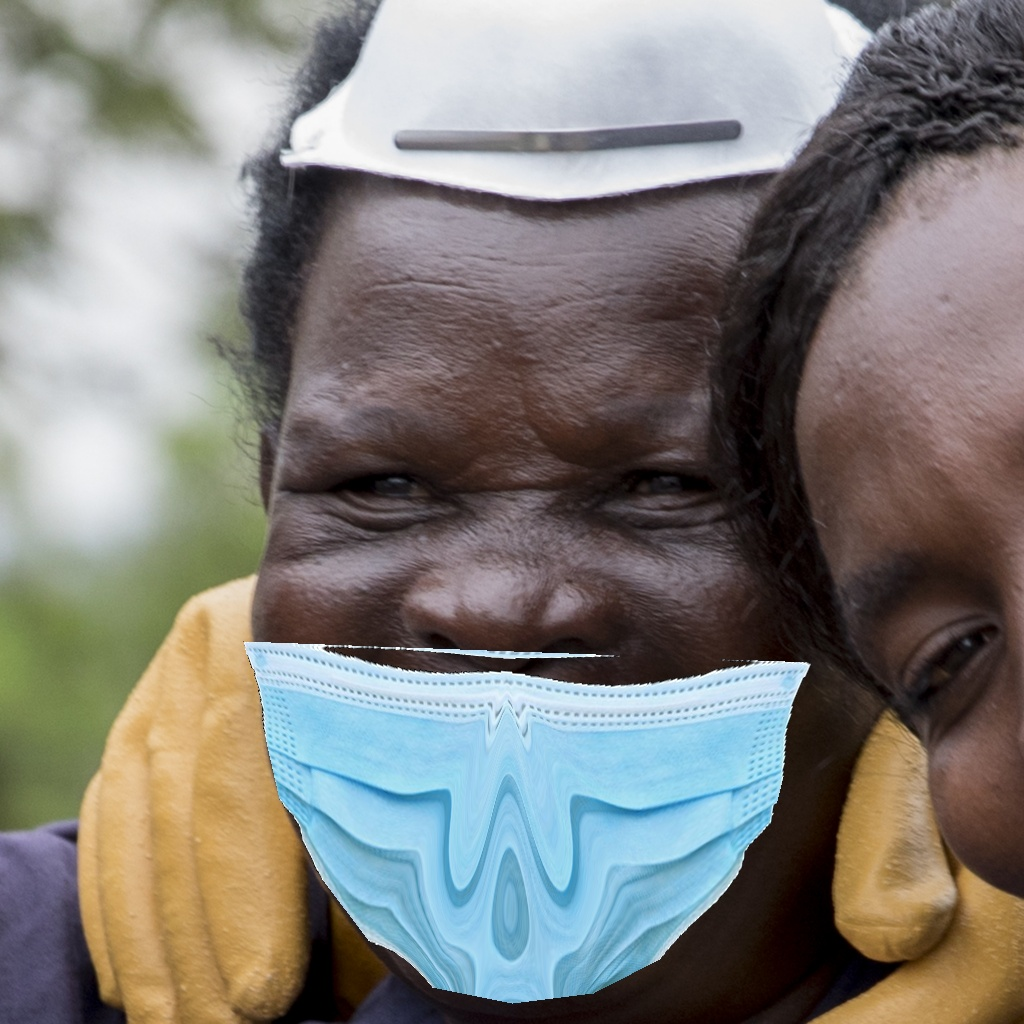mascarilla_mal_puesta: (272, 340, 877, 1000)
